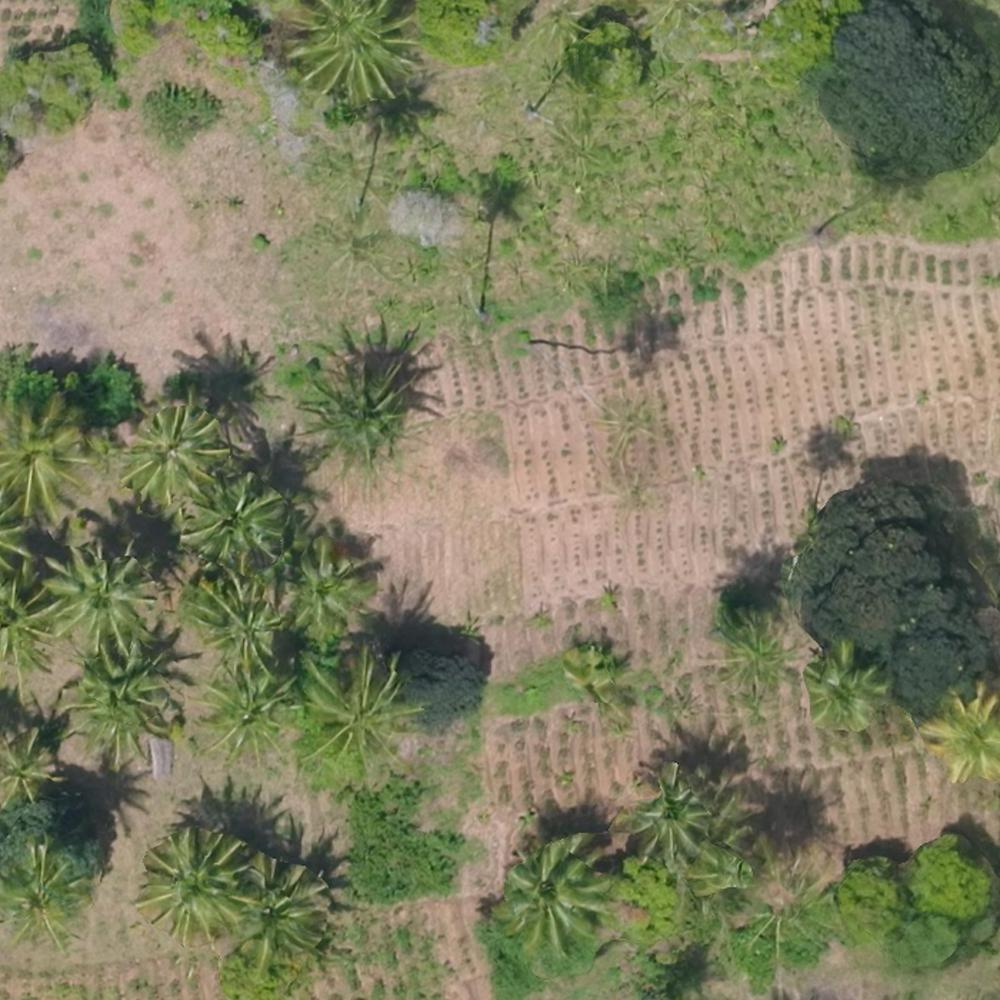Palm: (300, 351, 410, 463), (299, 656, 413, 764), (301, 4, 420, 106), (498, 836, 609, 944), (142, 832, 251, 938), (71, 641, 176, 751), (45, 540, 149, 644), (2, 400, 93, 517), (199, 665, 297, 766), (235, 857, 330, 959), (1, 844, 92, 946), (184, 480, 283, 572), (121, 409, 220, 497), (282, 542, 374, 632), (192, 579, 288, 665), (624, 775, 713, 862), (924, 690, 1000, 781), (803, 645, 884, 727)
